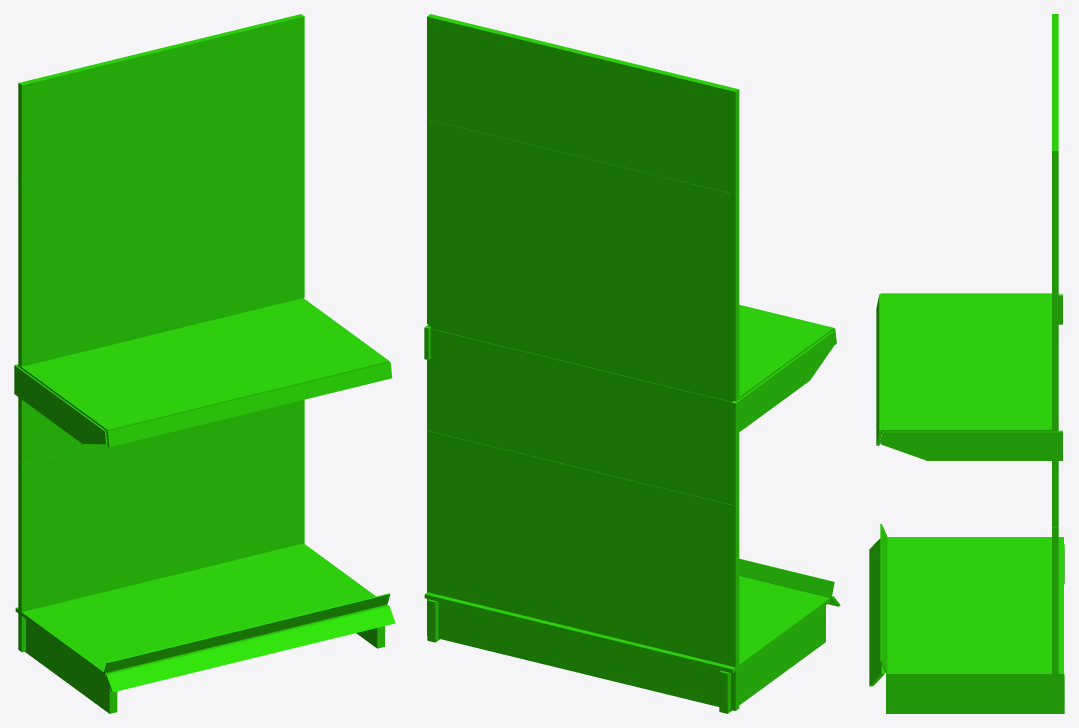
The model's file is Shop_Shelf_A_09_Lod0.fbx.
3 views of the same model, side by side, from view 1: azimuth 30°, elevation 25°; view 2: azimuth 150°, elevation 25°; view 3: azimuth 270°, elevation 25° (orthographic). The views are drawn at different scales.
Visible parts, largest first — view 1: Shop_Shelf_A_09_Lod0; view 2: Shop_Shelf_A_09_Lod0; view 3: Shop_Shelf_A_09_Lod0.
Boxes of the visible parts, x1,y1,x2,y2 form: Shop_Shelf_A_09_Lod0: (14, 14, 395, 713); Shop_Shelf_A_09_Lod0: (424, 14, 840, 713); Shop_Shelf_A_09_Lod0: (869, 14, 1064, 713).
Size of the model in its own units: 135 by 258 by 80.68.
